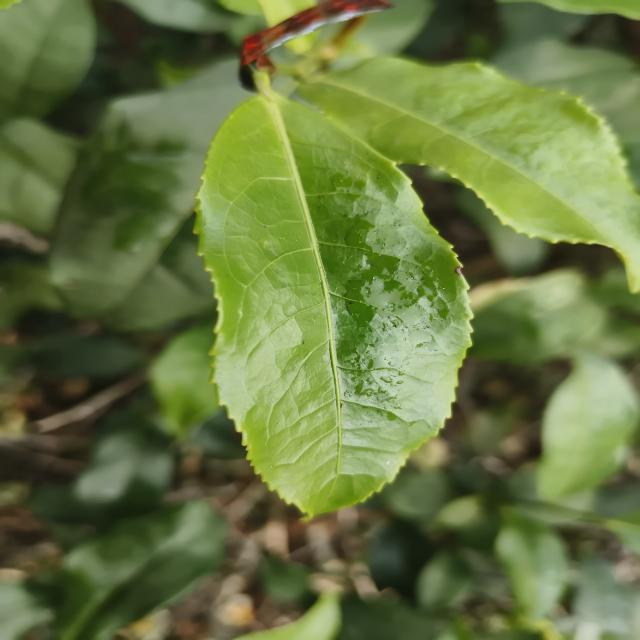Leaf: (196, 94, 470, 515), (299, 58, 640, 291), (50, 59, 248, 331), (56, 501, 226, 640), (536, 352, 640, 500), (471, 271, 606, 363), (0, 0, 96, 121), (72, 410, 173, 524), (491, 39, 636, 106), (0, 118, 77, 236), (495, 509, 567, 621), (150, 323, 219, 436), (416, 550, 470, 610)
